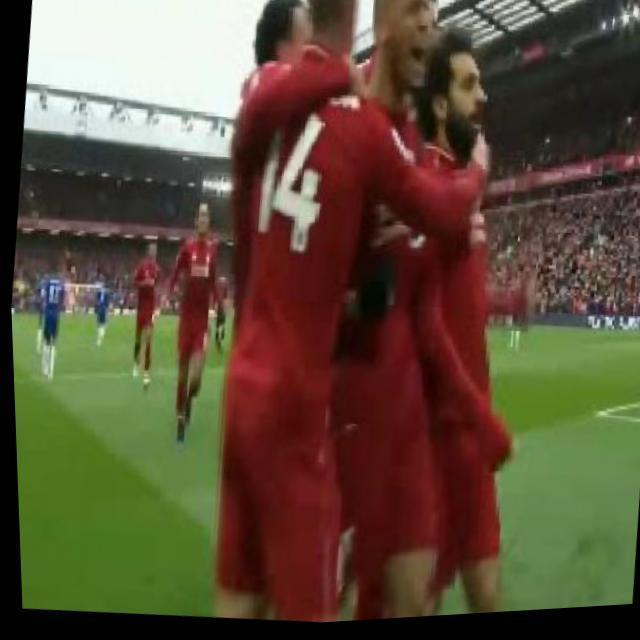non-fight: (173, 0, 571, 632)
